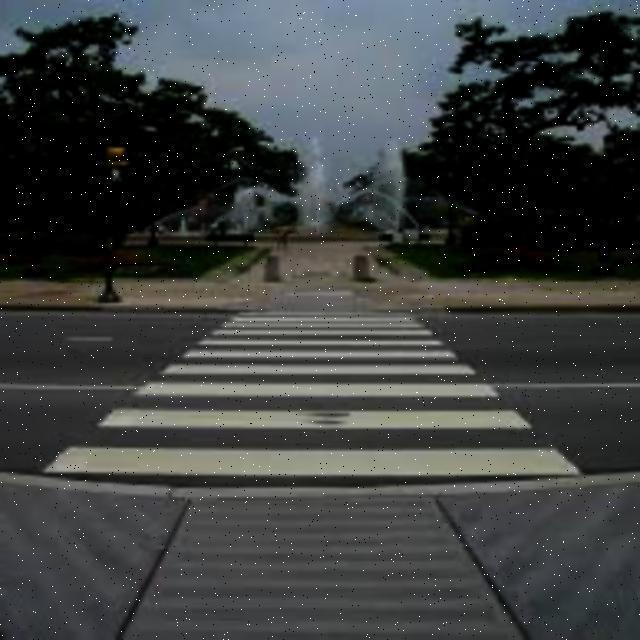Pedestrian crosswalk: (3, 308, 640, 496)
